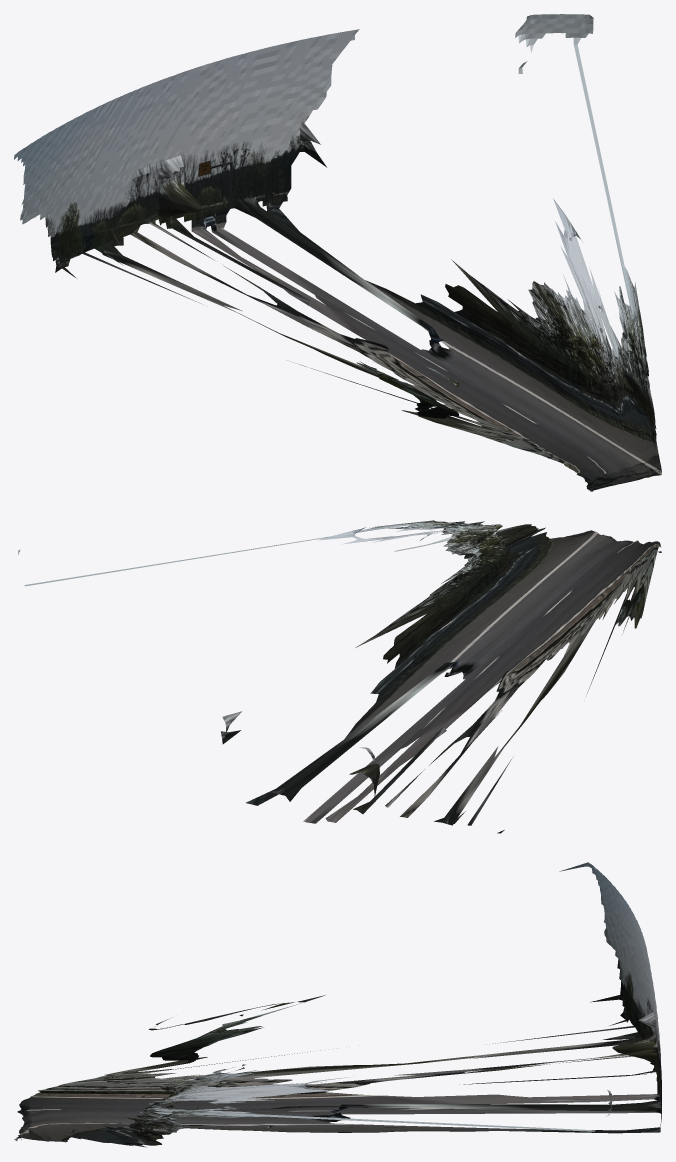
The picture shows the model from 3 angles, top to bottom: view 1: azimuth 30°, elevation 25°; view 2: azimuth 150°, elevation 25°; view 3: azimuth 270°, elevation 25°; orthographic projection. The views are drawn at different scales.
Visible parts, largest first — view 1: defaultobject; view 2: defaultobject; view 3: defaultobject.
Part boxes in pixels (x1=…): defaultobject: x1=14, y1=14, x2=661, y2=491; defaultobject: x1=18, y1=520, x2=661, y2=833; defaultobject: x1=14, y1=862, x2=661, y2=1147.
Size of the model in its own units: 40.53 by 11.75 by 44.52.
Materials: 1 (1 with a texture image).
